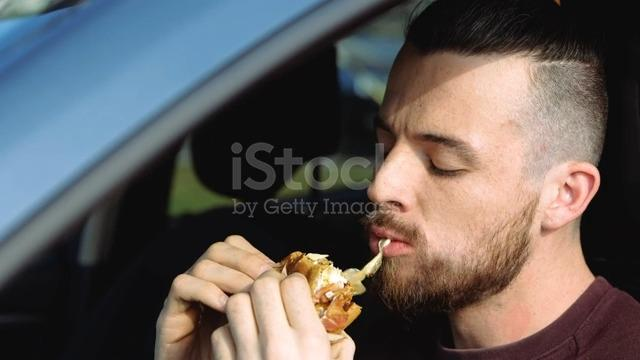Eating: (224, 11, 613, 351)
